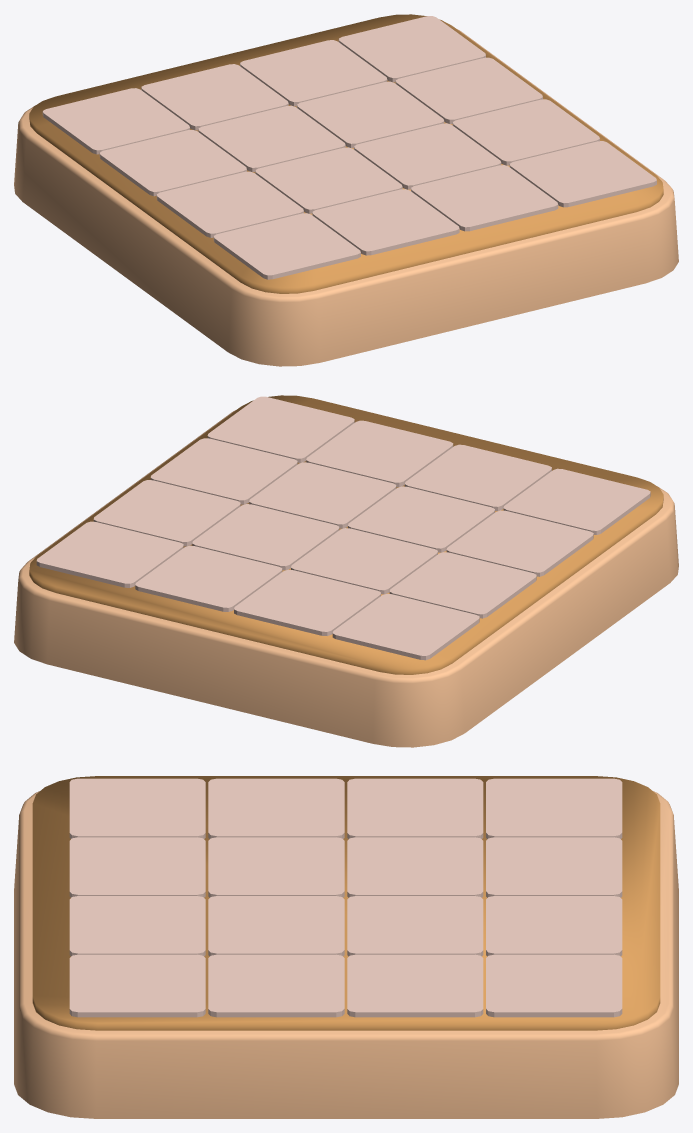
File: Mdl_Puzzle_Base.fbx
The picture shows the model from 3 angles, top to bottom: view 1: azimuth 30°, elevation 25°; view 2: azimuth 150°, elevation 25°; view 3: azimuth 270°, elevation 25°; orthographic projection. The views are drawn at different scales.
Visible parts, largest first — view 1: Mesh_Puzzle_Base; view 2: Mesh_Puzzle_Base; view 3: Mesh_Puzzle_Base.
Boxes of the visible parts, left/top/right/bottom form: Mesh_Puzzle_Base: left=14, top=14, right=678, bottom=366; Mesh_Puzzle_Base: left=14, top=395, right=678, bottom=747; Mesh_Puzzle_Base: left=14, top=776, right=678, bottom=1118.
Size of the model in its own units: 1308 by 218 by 1398.
